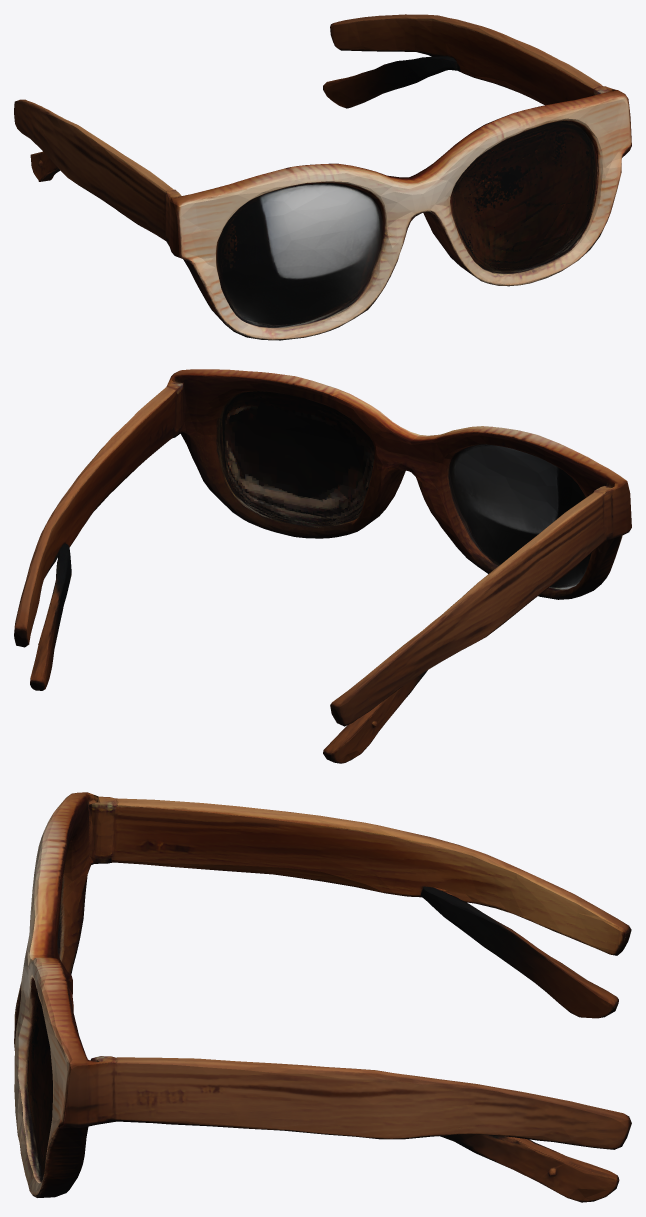
The model's file is wooden-sunglasses-3d.jpeg.glb.
3 renders of one model, top to bottom at view 1: azimuth 30°, elevation 25°; view 2: azimuth 150°, elevation 25°; view 3: azimuth 270°, elevation 25°, orthographic. The views are drawn at different scales.
Parts seen in each view (by area): view 1: world; view 2: world; view 3: world.
Boxes of the visible parts, x1,y1,x2,y2 form: world: (14,14,631,340); world: (14,369,631,763); world: (14,792,631,1202).
Bounding box in the file's own units: 0.9991 × 0.3381 × 0.9531.
Materials: 1 (1 with a texture image).
